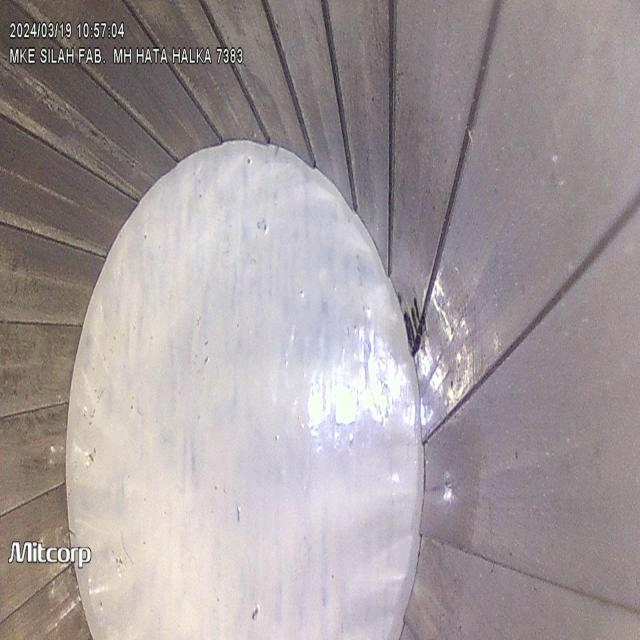hata_9.2: (398, 288, 482, 436)
